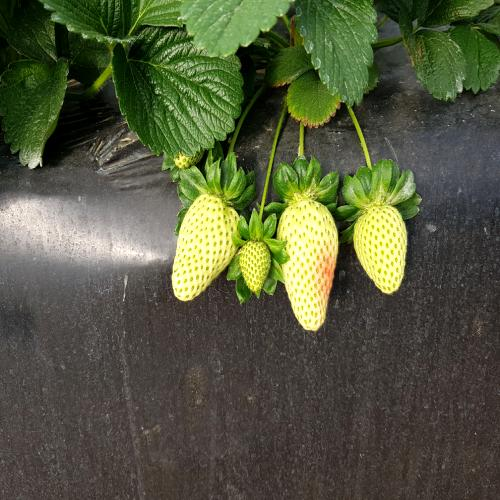unripe: (272, 180, 344, 338), (173, 171, 242, 316), (348, 201, 416, 303), (237, 215, 272, 309)
